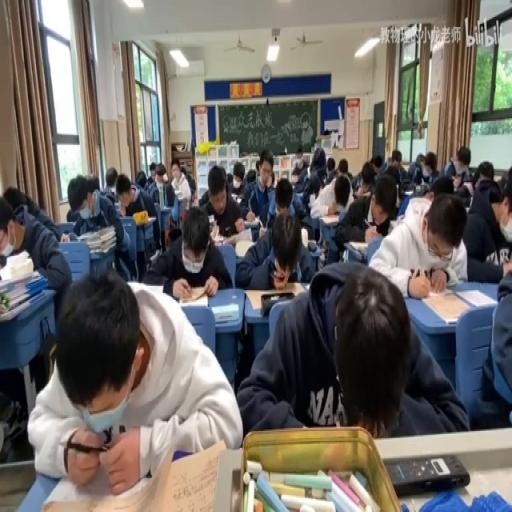calculator: (245, 283, 303, 310), (422, 292, 468, 322), (210, 301, 238, 323), (77, 225, 115, 240), (131, 209, 157, 226), (179, 294, 210, 308), (397, 192, 413, 218), (234, 238, 254, 258), (90, 244, 114, 258), (347, 239, 369, 252), (318, 213, 341, 225), (213, 233, 229, 245), (242, 218, 258, 228), (230, 194, 244, 204), (388, 219, 398, 232), (149, 248, 159, 260), (170, 191, 182, 199), (113, 200, 119, 214), (309, 194, 316, 206), (403, 189, 414, 196), (208, 214, 214, 224)
paper: (30, 266, 240, 495), (236, 258, 462, 436), (370, 189, 468, 296), (0, 186, 70, 319), (145, 205, 230, 300), (469, 252, 510, 426), (235, 205, 315, 287), (461, 164, 512, 274), (332, 168, 386, 250), (115, 170, 159, 260), (229, 161, 256, 212), (379, 152, 408, 199), (288, 155, 314, 205), (410, 149, 440, 188), (148, 164, 174, 206), (445, 145, 471, 186), (165, 196, 186, 245), (3, 185, 32, 219), (271, 176, 293, 219), (84, 174, 102, 206), (178, 164, 194, 199), (429, 175, 454, 196), (474, 159, 494, 181), (371, 215, 390, 236), (312, 148, 326, 176), (105, 166, 118, 196), (456, 182, 472, 206), (498, 168, 510, 195), (361, 168, 374, 189), (134, 171, 146, 186), (390, 150, 402, 164), (372, 154, 382, 170), (412, 182, 426, 193), (338, 158, 347, 173), (326, 158, 334, 173), (268, 168, 274, 185), (415, 151, 424, 162), (226, 171, 232, 186), (294, 158, 302, 169), (295, 144, 302, 155), (254, 161, 258, 175), (150, 168, 155, 176)
person: (386, 452, 470, 494), (307, 239, 318, 250)
